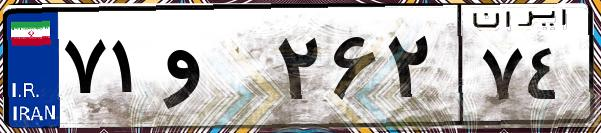1: (110, 28, 158, 98)
2: (270, 28, 330, 110), (385, 28, 445, 110)
4: (525, 38, 570, 115)
6: (330, 28, 385, 110)
7: (57, 26, 110, 100), (475, 38, 525, 113)
و: (158, 20, 270, 120)
